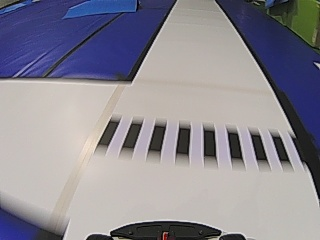CrossWalk: (95, 118, 291, 162)
